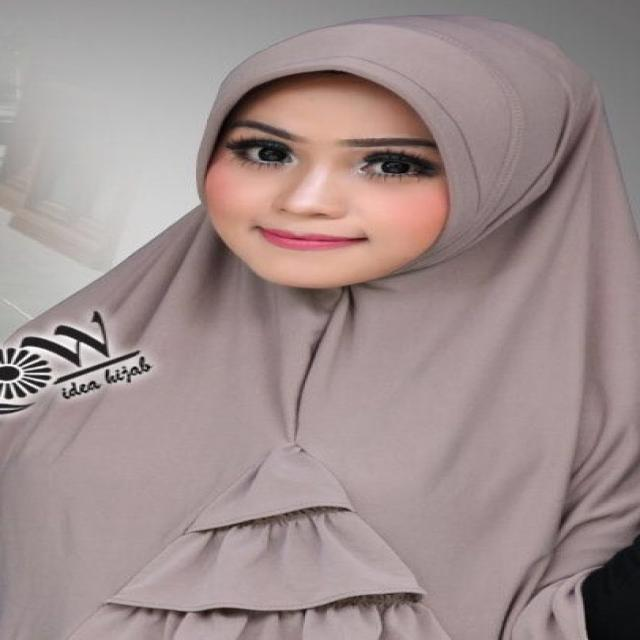head: (173, 20, 576, 293)
